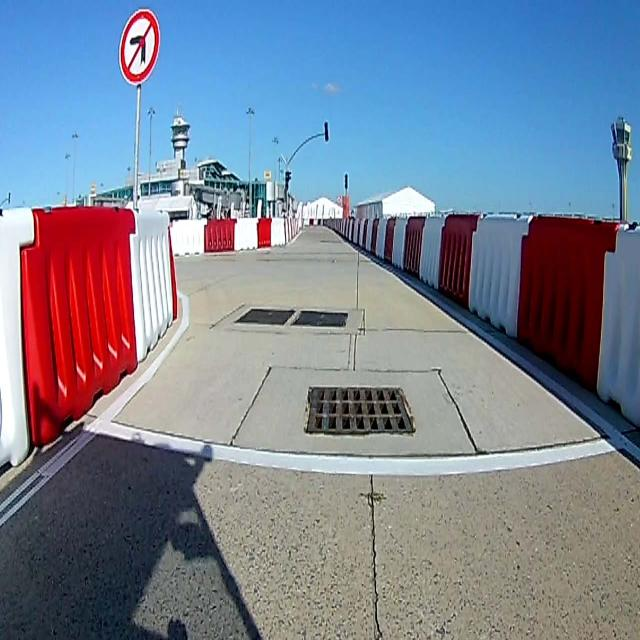soladonulmez: (118, 9, 161, 87)
